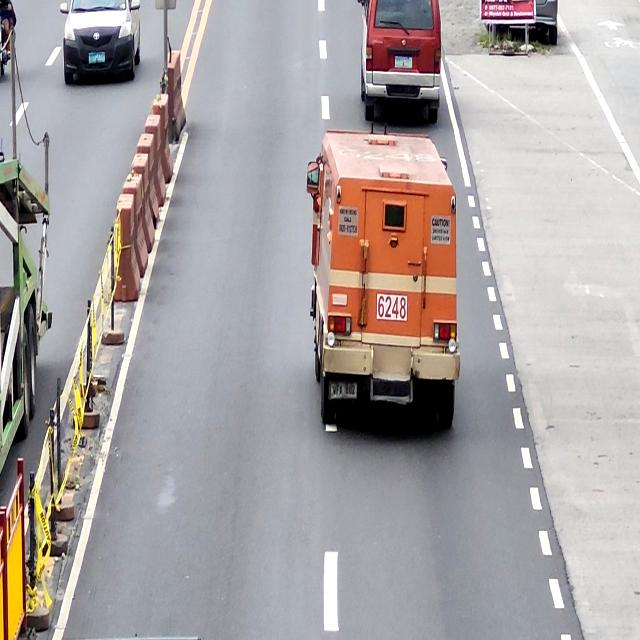Car: (305, 129, 461, 433), (360, 0, 442, 125)
License-Plate: (330, 380, 357, 400), (394, 55, 413, 69)
